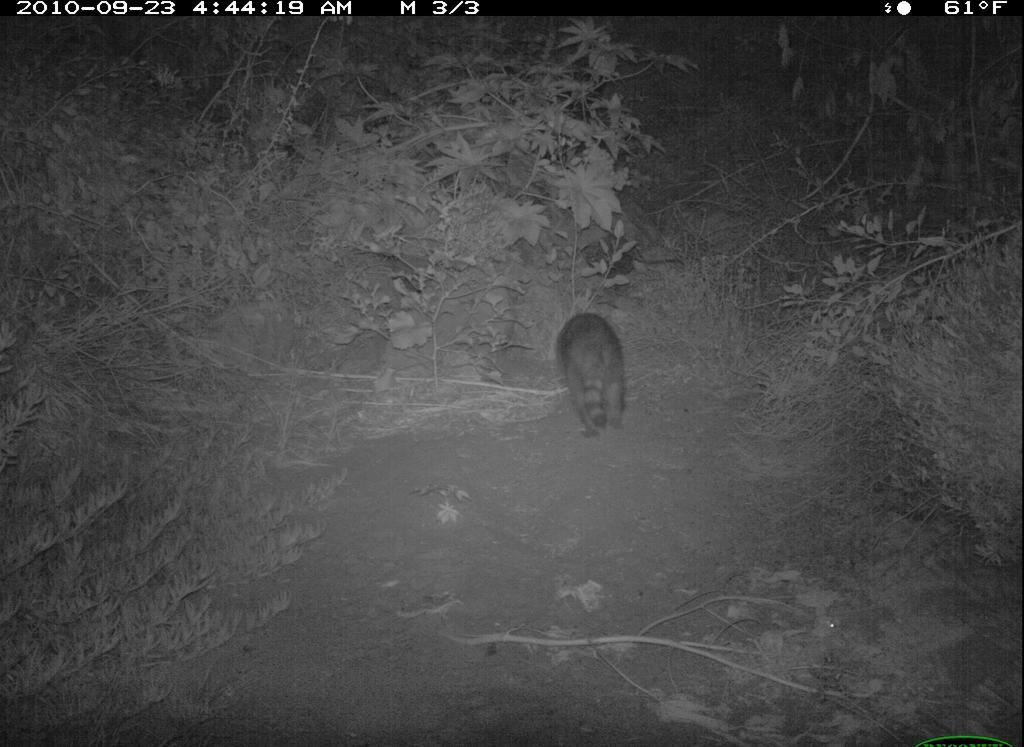raccoon: (555, 305, 645, 444)
